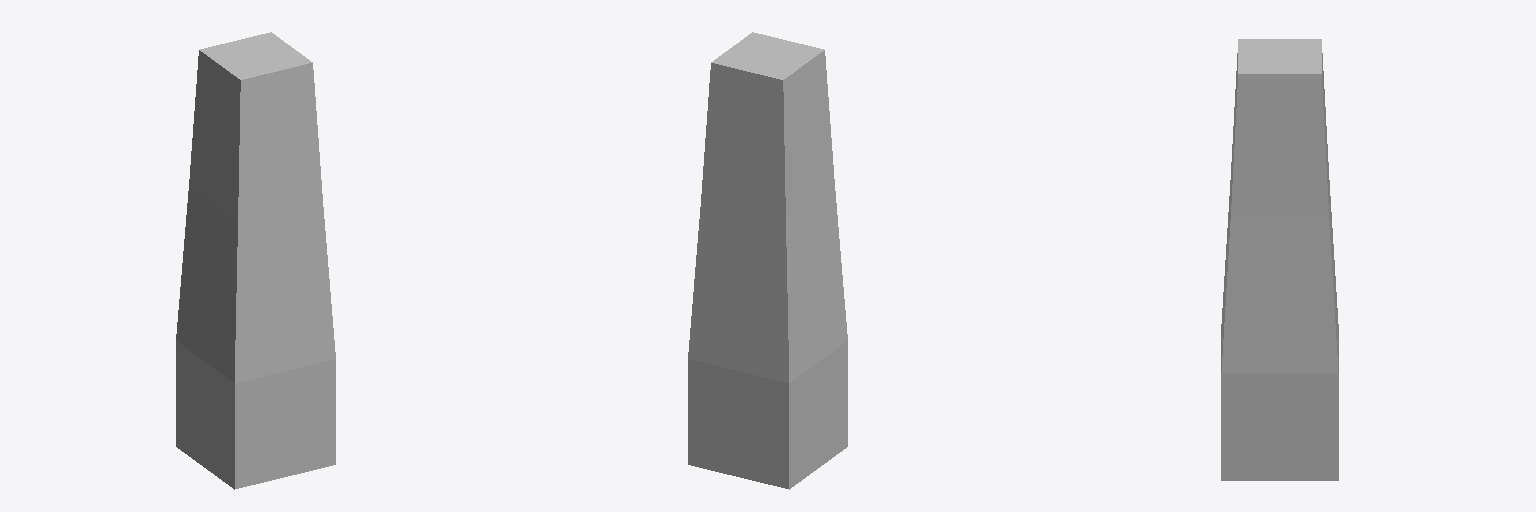
File: Buliding2.obj
The picture shows the model from 3 angles: view 1: azimuth 30°, elevation 25°; view 2: azimuth 150°, elevation 25°; view 3: azimuth 270°, elevation 25°; orthographic projection.
Visible parts, largest first — view 1: Cube; view 2: Cube; view 3: Cube.
Part boxes in pixels (x1,y1,x2,y2): Cube: (176,32,335,489); Cube: (688,32,847,489); Cube: (1221,39,1338,480).
Bounding box in the file's own units: 1.89 × 7.11 × 1.89.